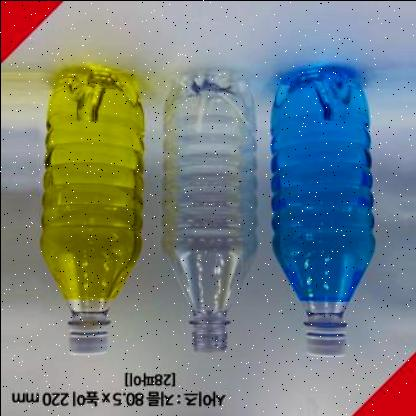Plastic Bottle: (269, 65, 374, 356), (38, 65, 141, 354), (160, 70, 256, 351)
